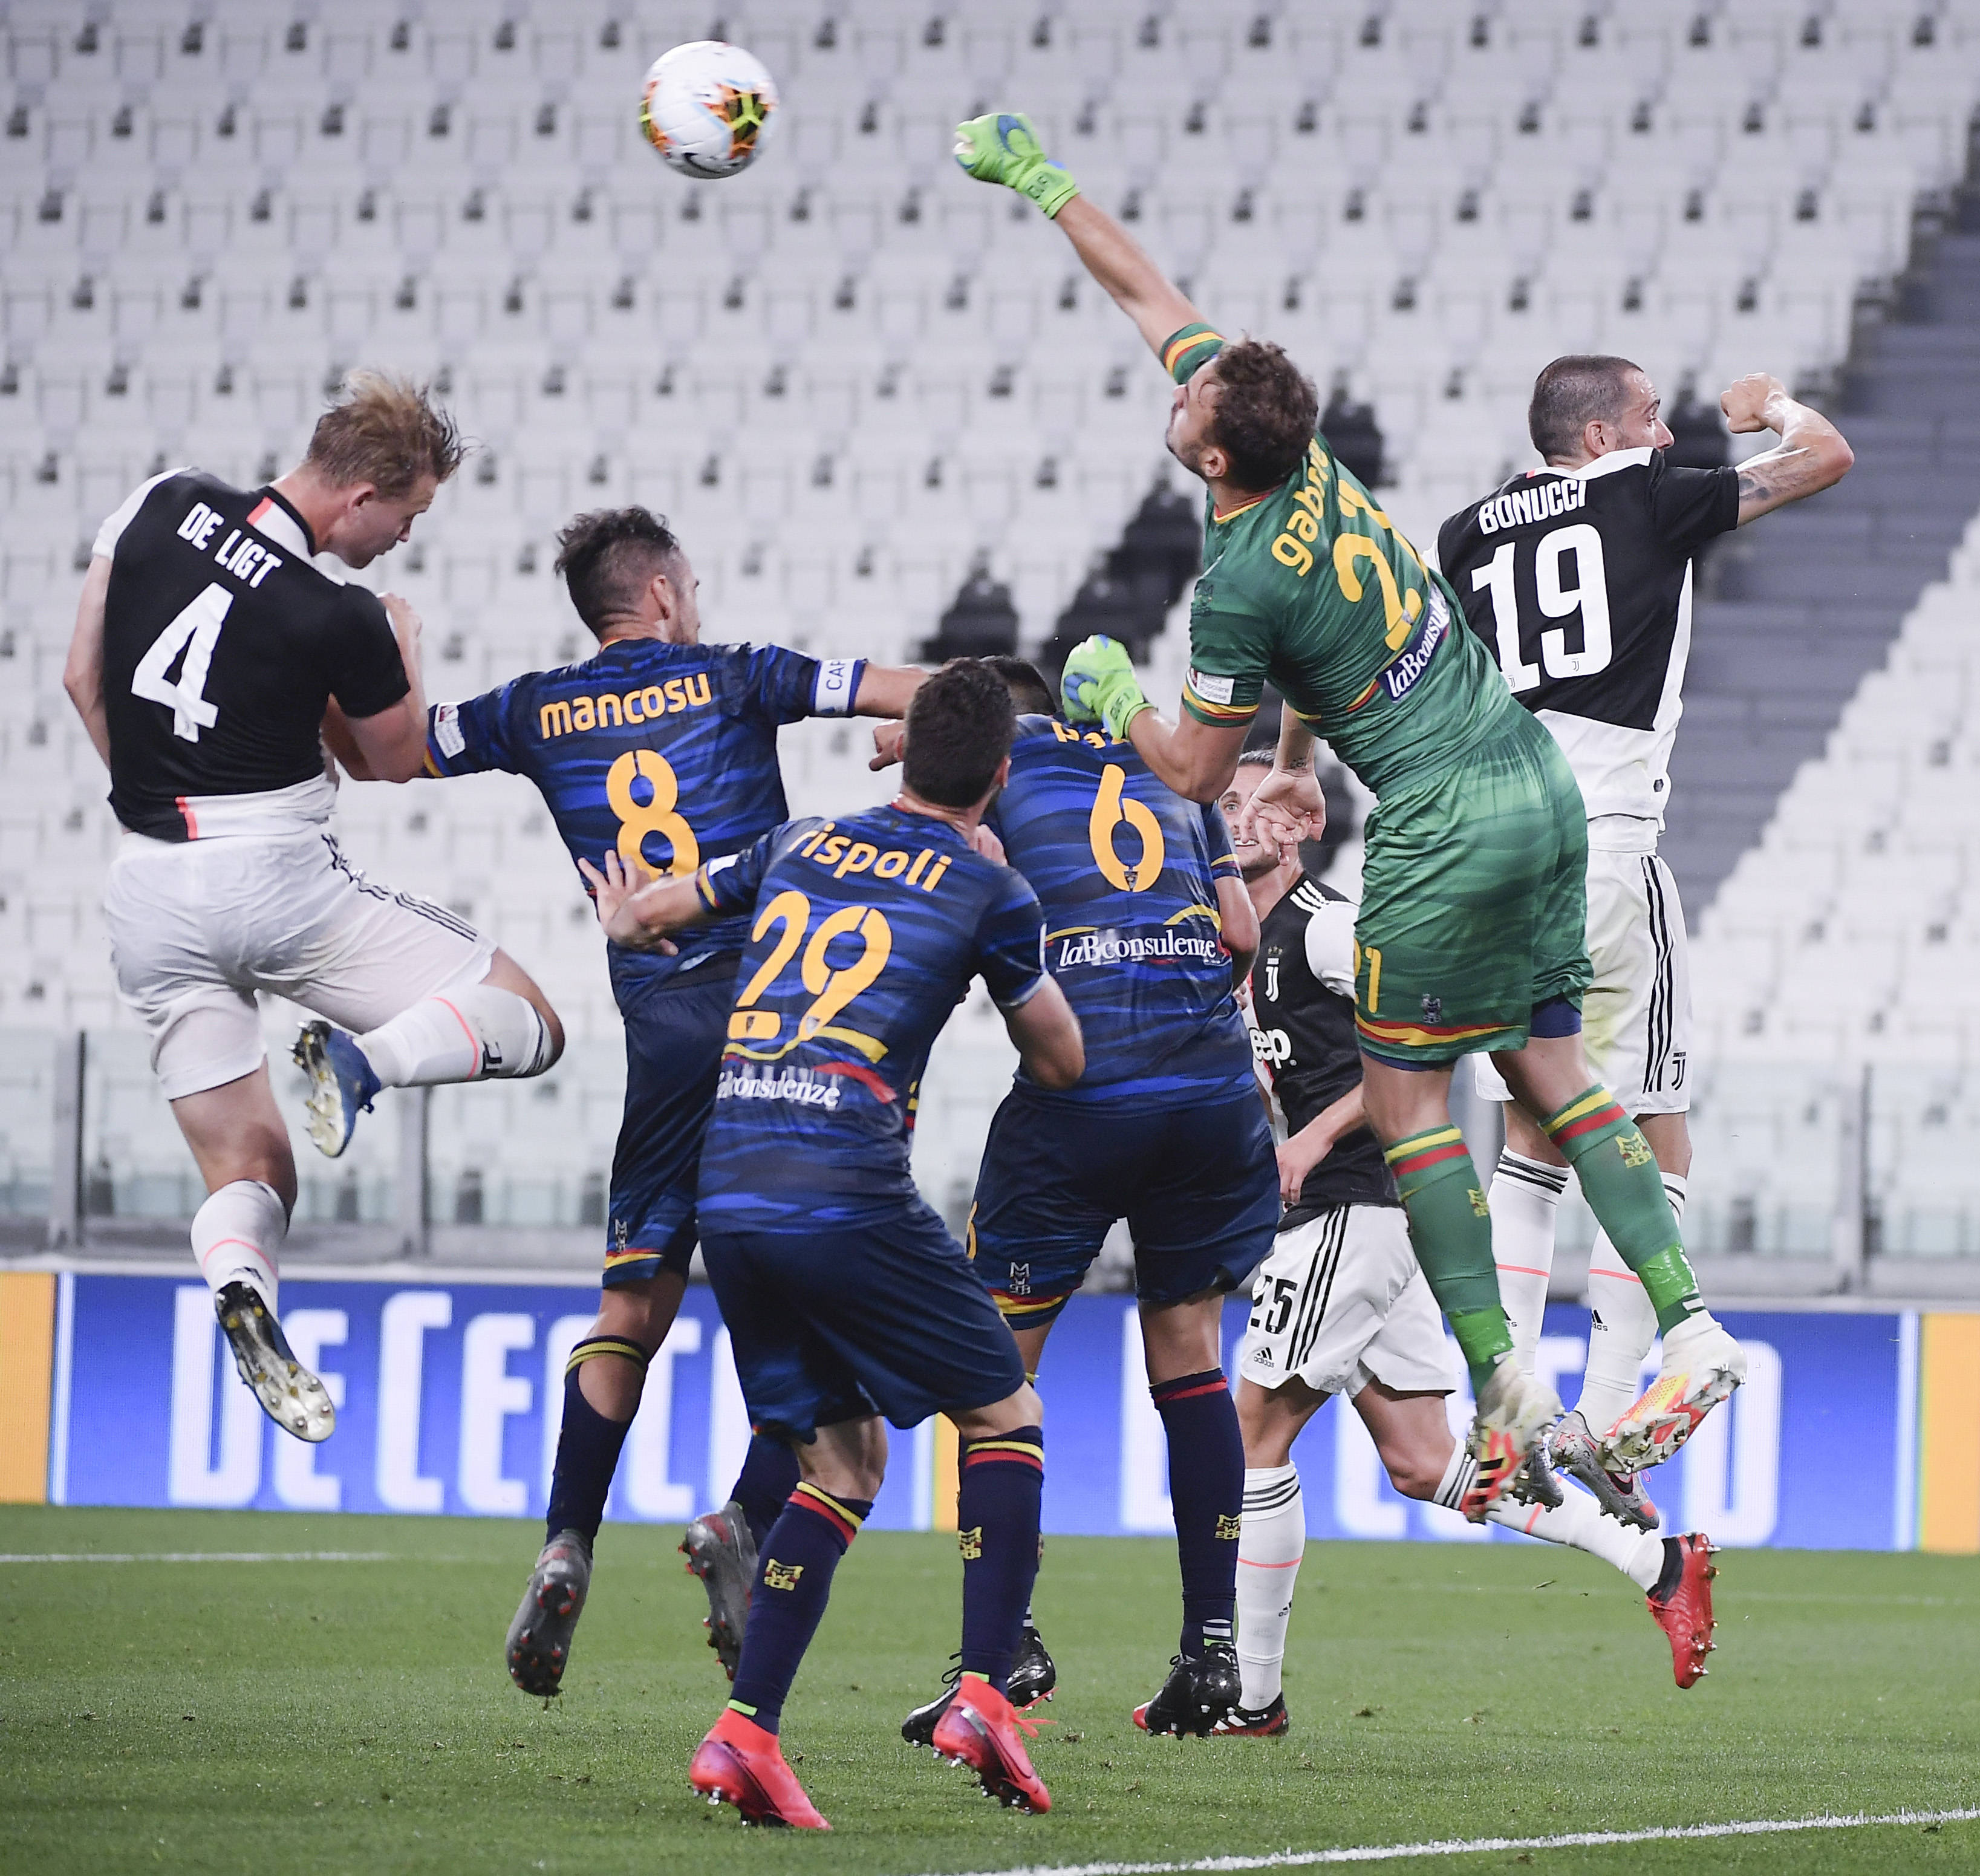ball: (633, 35, 785, 183)
